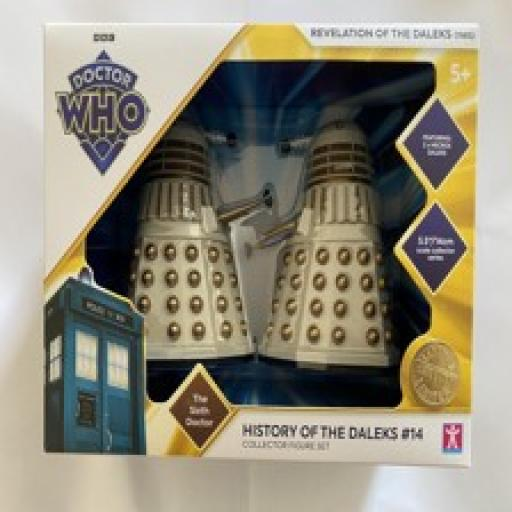dalek: (119, 117, 274, 386), (256, 115, 401, 399)
